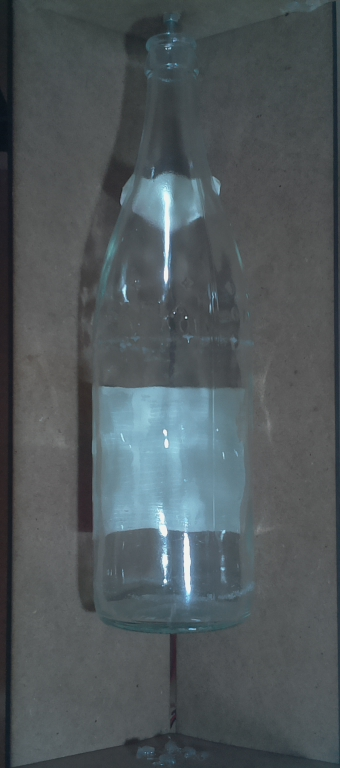Glass: (79, 27, 276, 643)
